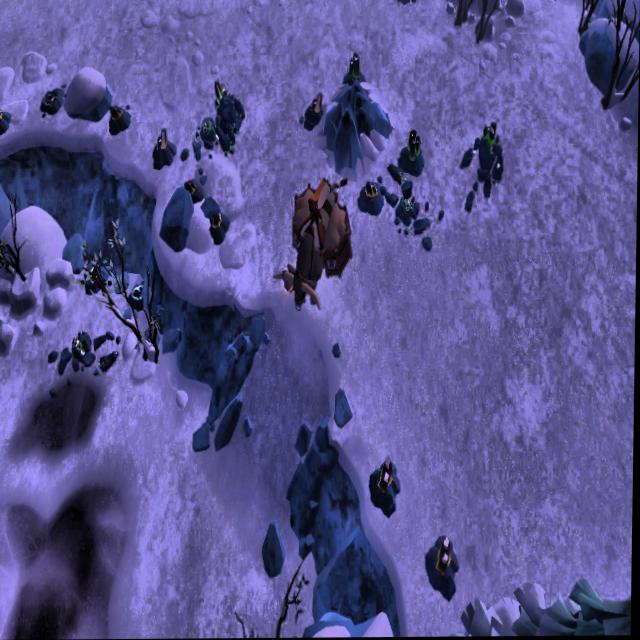ore_t3: (346, 49, 364, 84), (407, 125, 424, 162)
